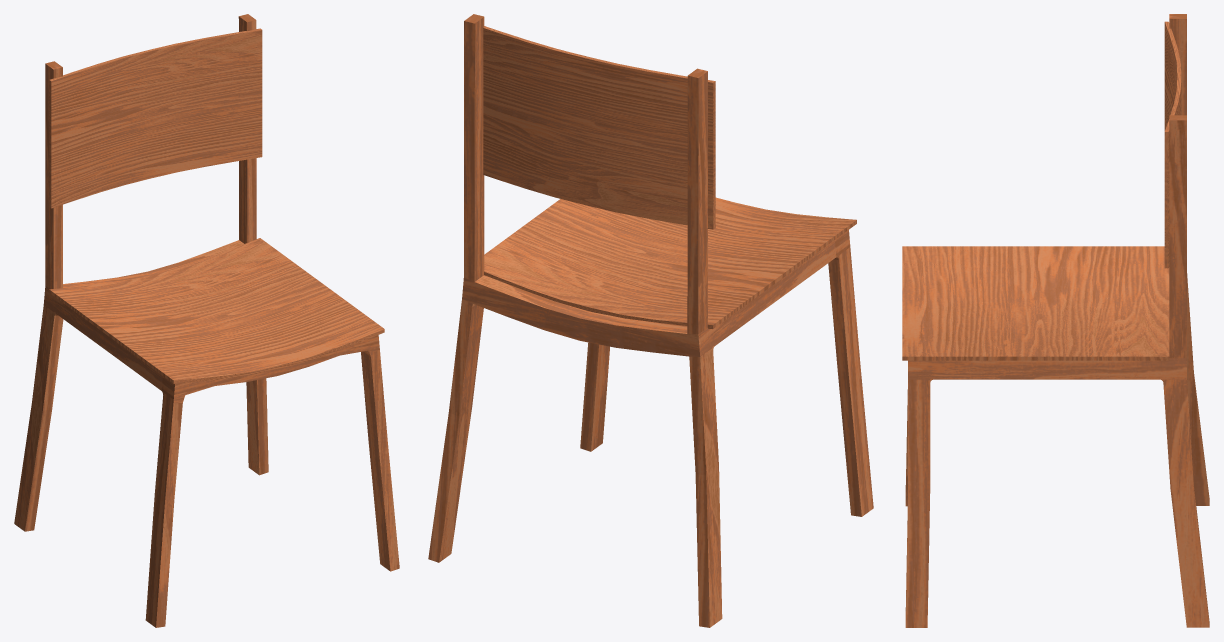
The model's file is Chair 001.fbx.
3 views of the same model, side by side, from view 1: azimuth 30°, elevation 25°; view 2: azimuth 150°, elevation 25°; view 3: azimuth 270°, elevation 25° (orthographic). The views are drawn at different scales.
Visible parts, largest first — view 1: Plane.001, Plane, Cube.001; view 2: Cube.001, Plane.001, Plane; view 3: Plane, Cube.001, Plane.001.
Part boxes in pixels (left/top/right/bottom): Plane.001: left=49, top=28, right=262, bottom=208; Plane: left=49, top=238, right=384, bottom=383; Cube.001: left=14, top=14, right=399, bottom=627; Cube.001: left=428, top=14, right=873, bottom=627; Plane.001: left=483, top=26, right=715, bottom=229; Plane: left=484, top=197, right=856, bottom=328; Plane: left=902, top=246, right=1169, bottom=360; Cube.001: left=905, top=14, right=1209, bottom=627; Plane.001: left=1164, top=21, right=1181, bottom=268.
Bounding box in the file's own units: 51.99 × 94.6 × 52.96.
